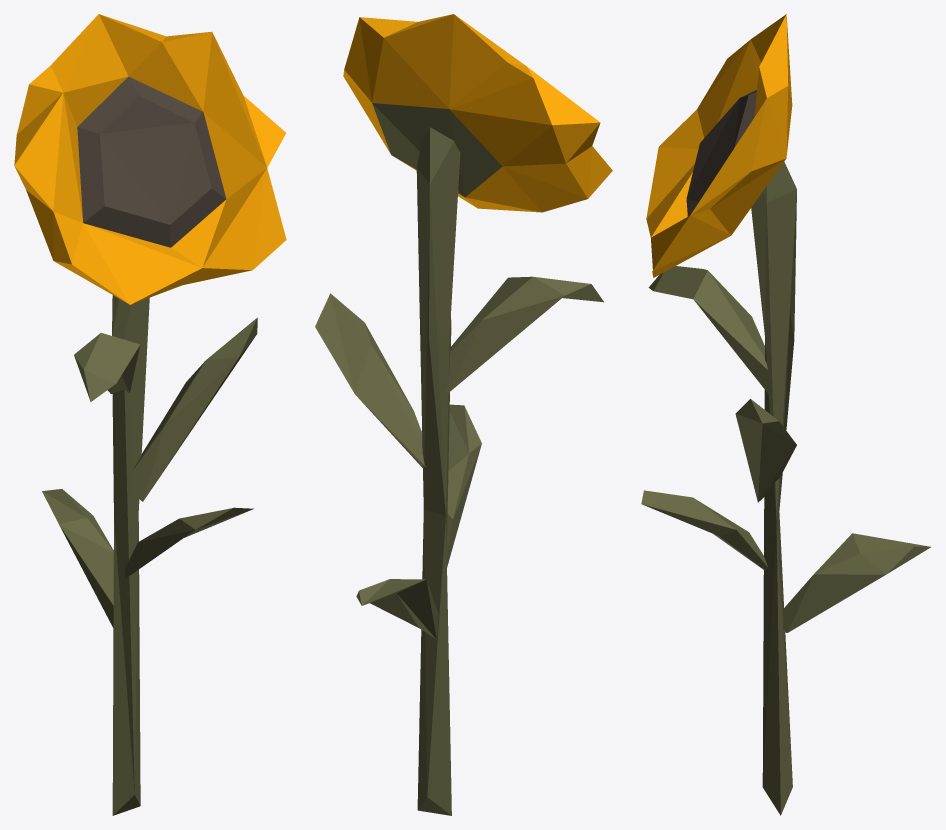
The model's file is env_sunflower.gltf.
The picture shows the model from 3 angles, left to right: view 1: azimuth 30°, elevation 25°; view 2: azimuth 150°, elevation 25°; view 3: azimuth 270°, elevation 25°; orthographic projection. The views are drawn at different scales.
Parts seen in each view (by area): view 1: env_sunflower; view 2: env_sunflower; view 3: env_sunflower.
Boxes of the visible parts, bbox=[...] form: env_sunflower: bbox=[14, 14, 286, 815]; env_sunflower: bbox=[315, 14, 612, 815]; env_sunflower: bbox=[641, 14, 930, 815].
Bounding box in the file's own units: 0.5423 × 1.57 × 0.5288.
Materials: 1 (1 with a texture image).
